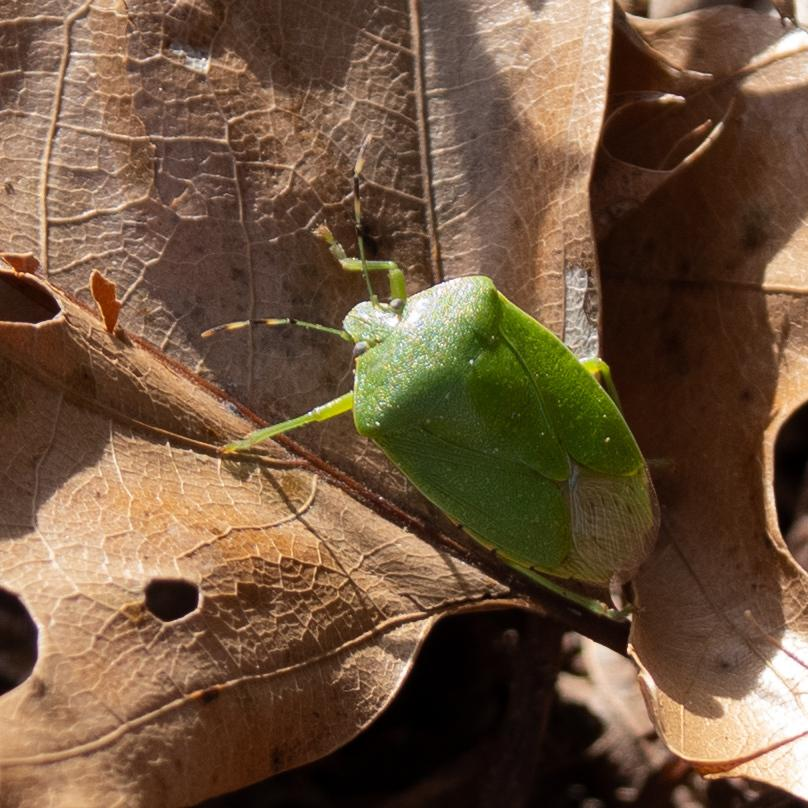stink_bugs: (150, 142, 762, 673)
